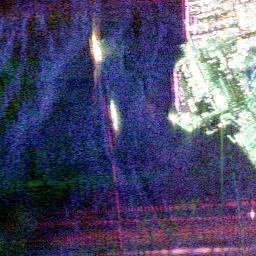Ship: (107, 99, 122, 133), (90, 33, 101, 63), (246, 207, 255, 219)
